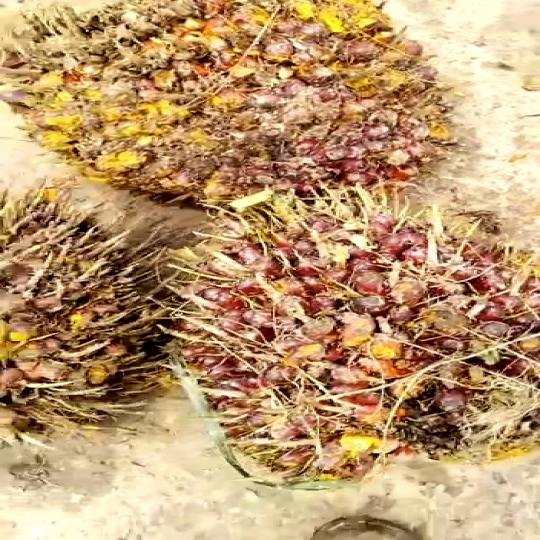masak: (153, 200, 540, 488), (0, 0, 462, 211)
